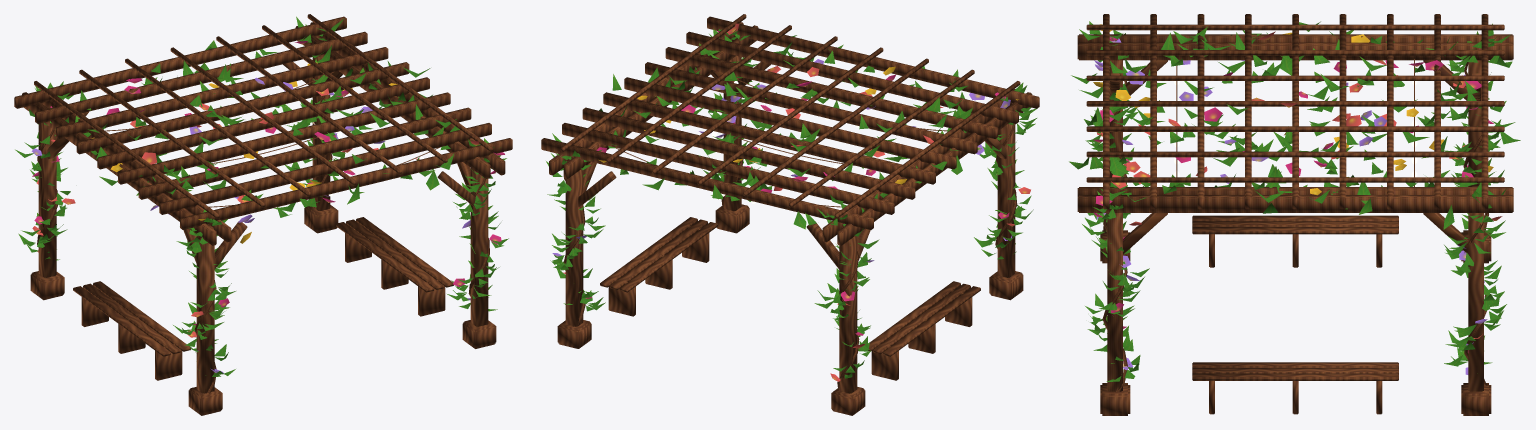
Rendered from prop_pergola_vine_aaa-8b29dd32dafe.glb.
3 renders of one model, left to right at view 1: azimuth 30°, elevation 25°; view 2: azimuth 150°, elevation 25°; view 3: azimuth 270°, elevation 25°, orthographic. The views are drawn at different scales.
Visible parts, largest first — view 1: prop_pergola_vine_aaa; view 2: prop_pergola_vine_aaa; view 3: prop_pergola_vine_aaa.
Part boxes in pixels (x1=…): prop_pergola_vine_aaa: x1=14, y1=14, x2=512, y2=415; prop_pergola_vine_aaa: x1=541, y1=14, x2=1039, y2=415; prop_pergola_vine_aaa: x1=1069, y1=14, x2=1520, y2=415.
Bounding box in the file's own units: 5.08 × 2.98 × 5.15.
Materials: 4 (3 with a texture image).
